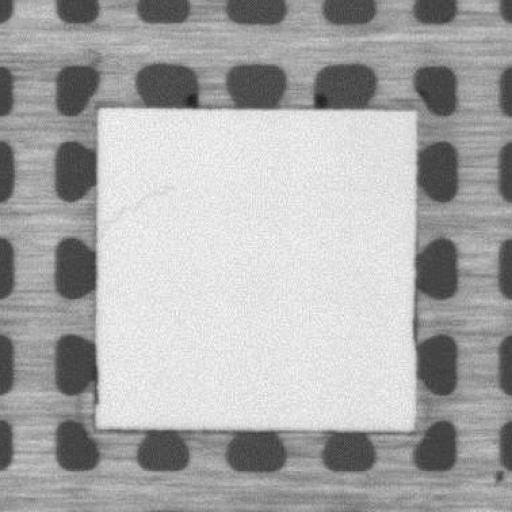DIE_CRACK: (96, 186, 165, 232)
